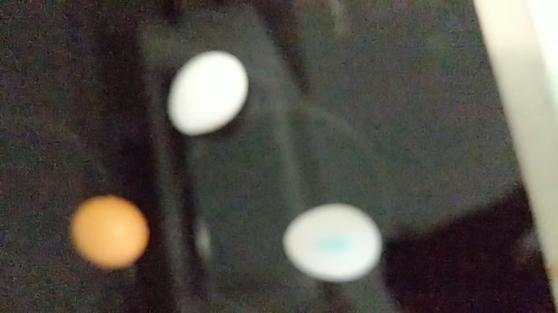egg: (282, 201, 384, 284), (167, 45, 248, 141), (63, 194, 154, 272)
